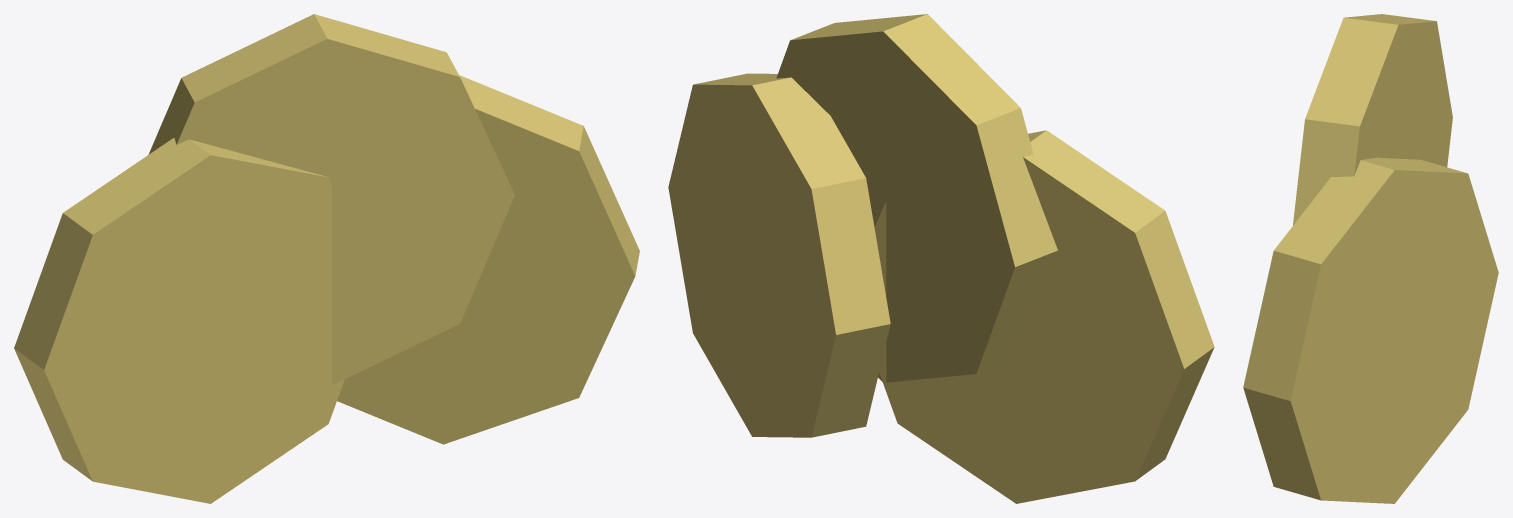
Rendered from coins.glb.
3 renders of one model, left to right at view 1: azimuth 30°, elevation 25°; view 2: azimuth 150°, elevation 25°; view 3: azimuth 270°, elevation 25°, orthographic. The views are drawn at different scales.
Visible parts, largest first — view 1: coins2; view 2: coins2; view 3: coins2.
Part boxes in pixels (x1,y1,x2,y2): coins2: (14,14,639,503); coins2: (668,14,1214,503); coins2: (1243,14,1498,503).
Size of the model in its own units: 0.5462 by 0.4 by 0.222.
